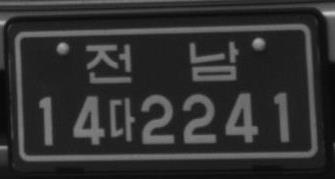1: (268, 91, 296, 143), (33, 95, 60, 146)
2: (181, 92, 218, 145), (140, 93, 176, 146)
4: (223, 91, 259, 143), (71, 94, 105, 146)
다: (107, 96, 136, 143)
전남_D: (84, 39, 240, 85)
